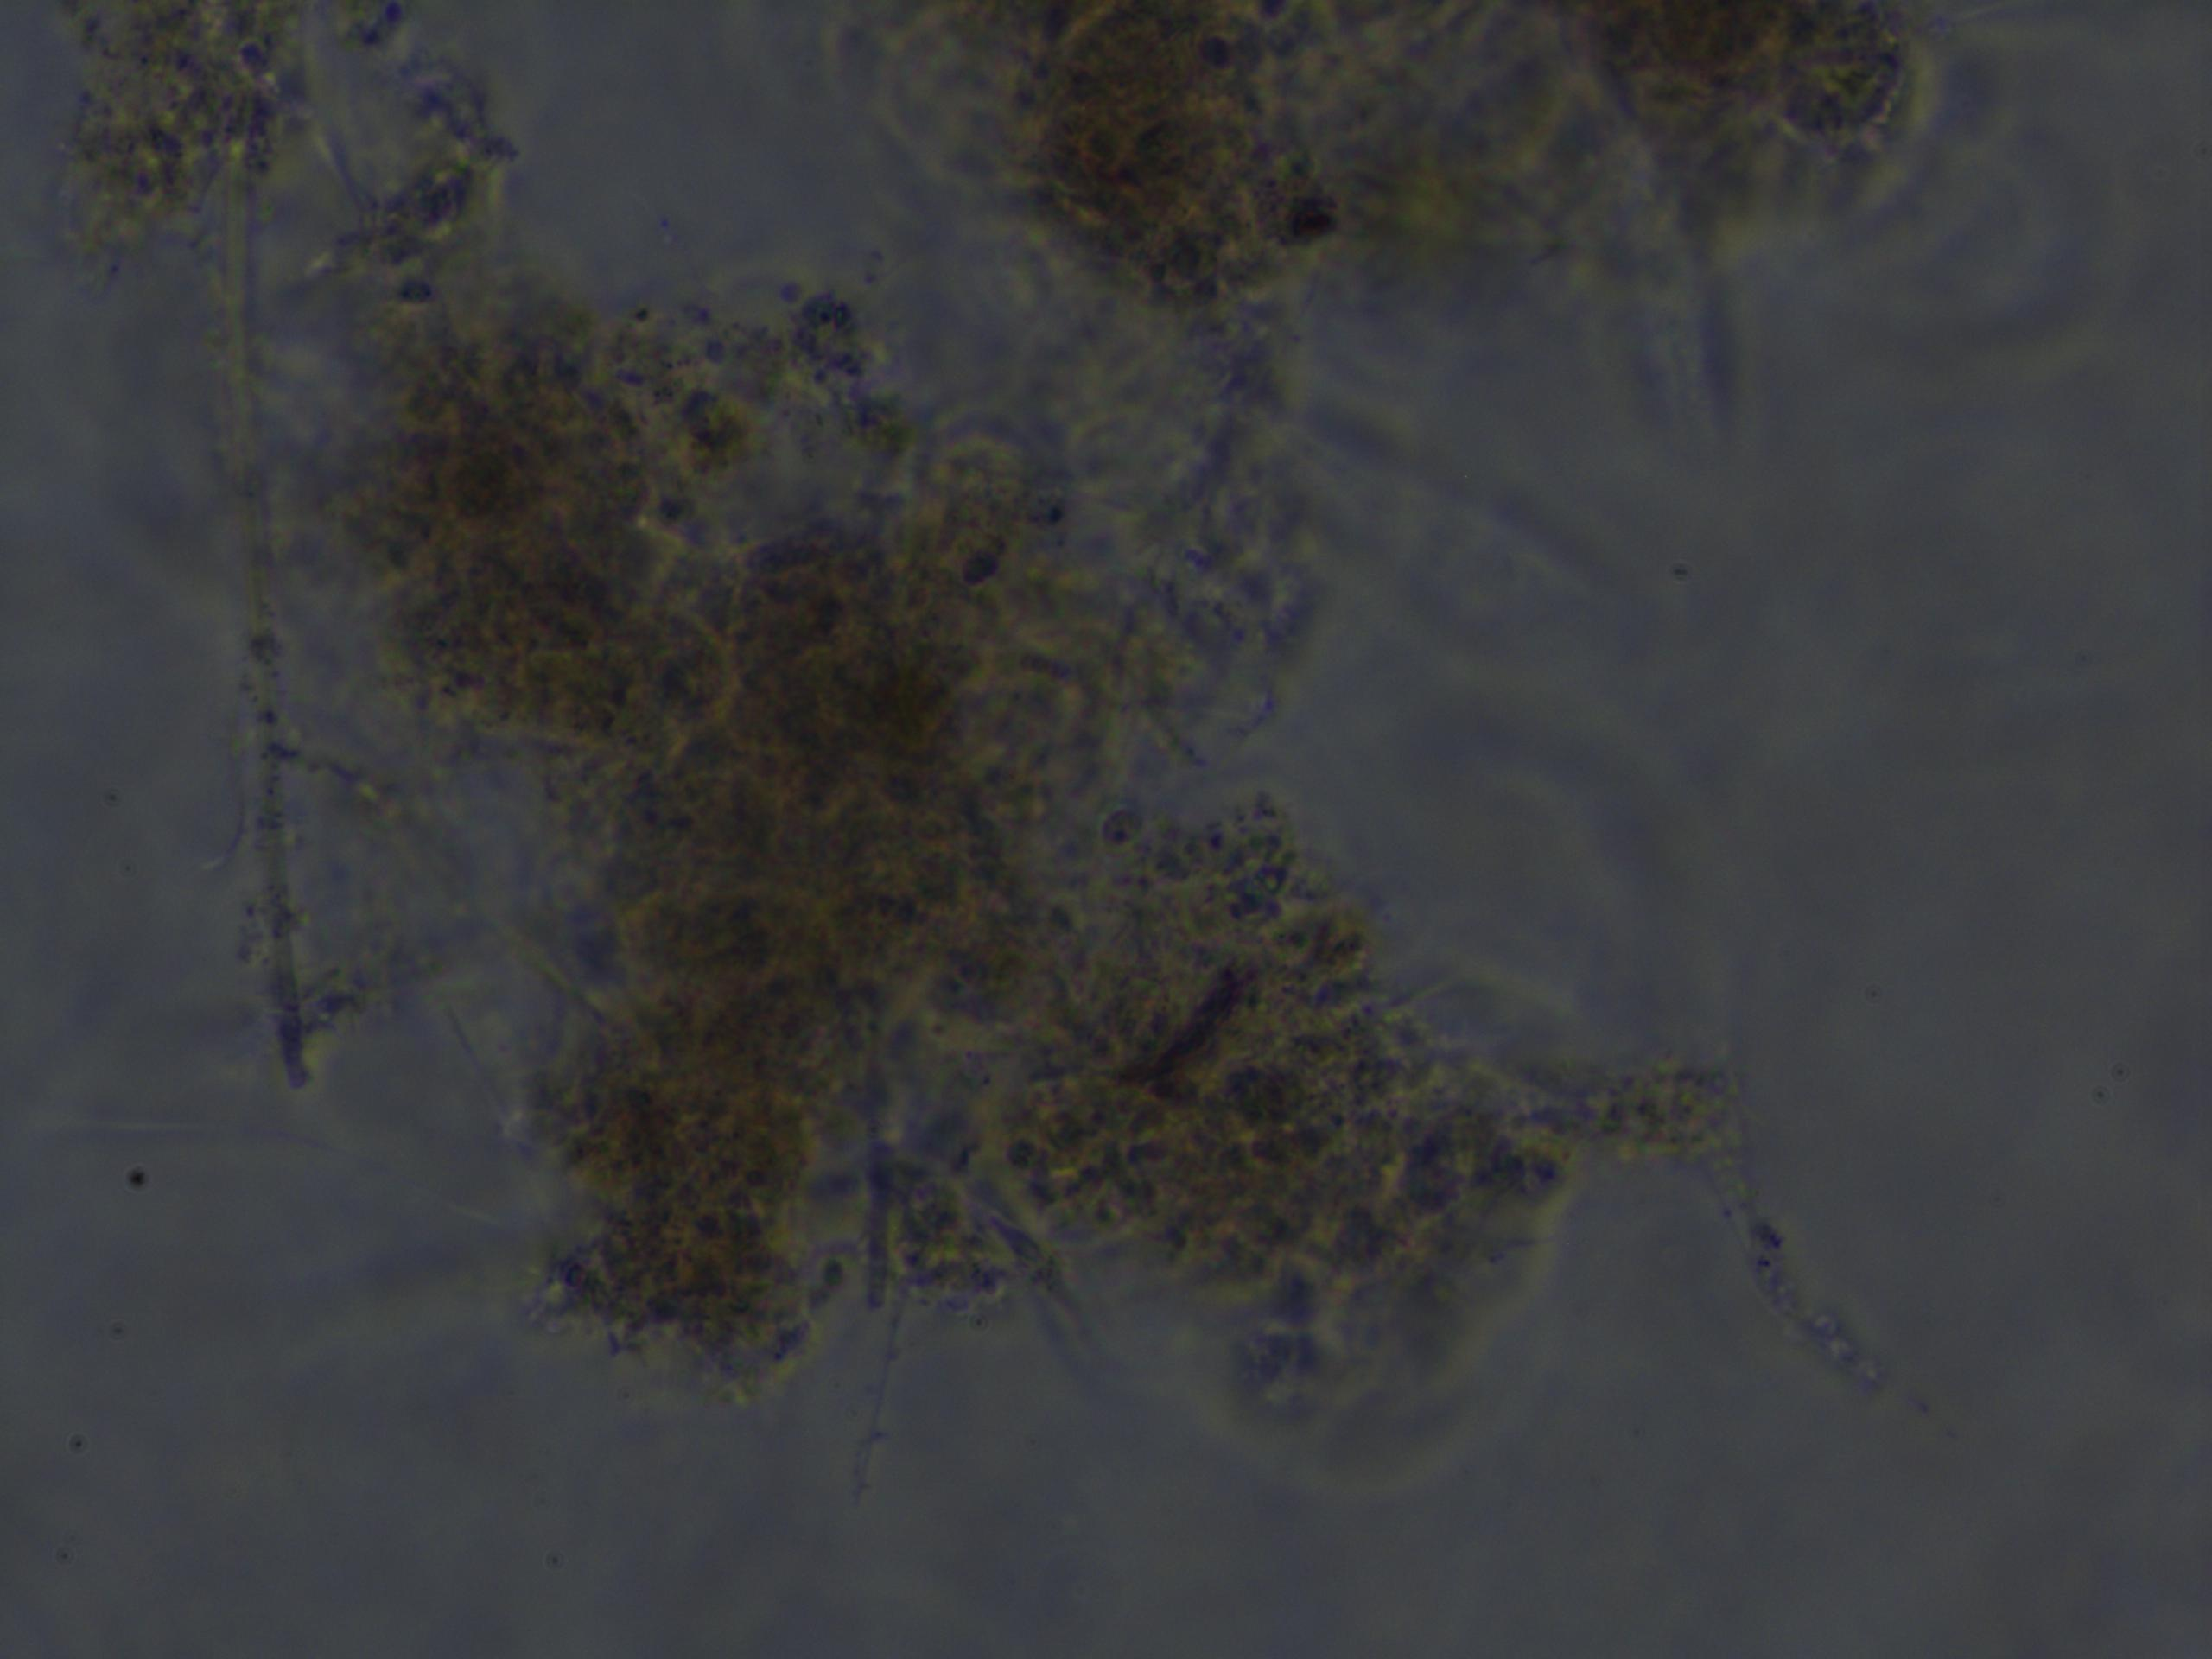filament: (181, 105, 357, 1108)
open_floc: (347, 260, 1601, 1445)
